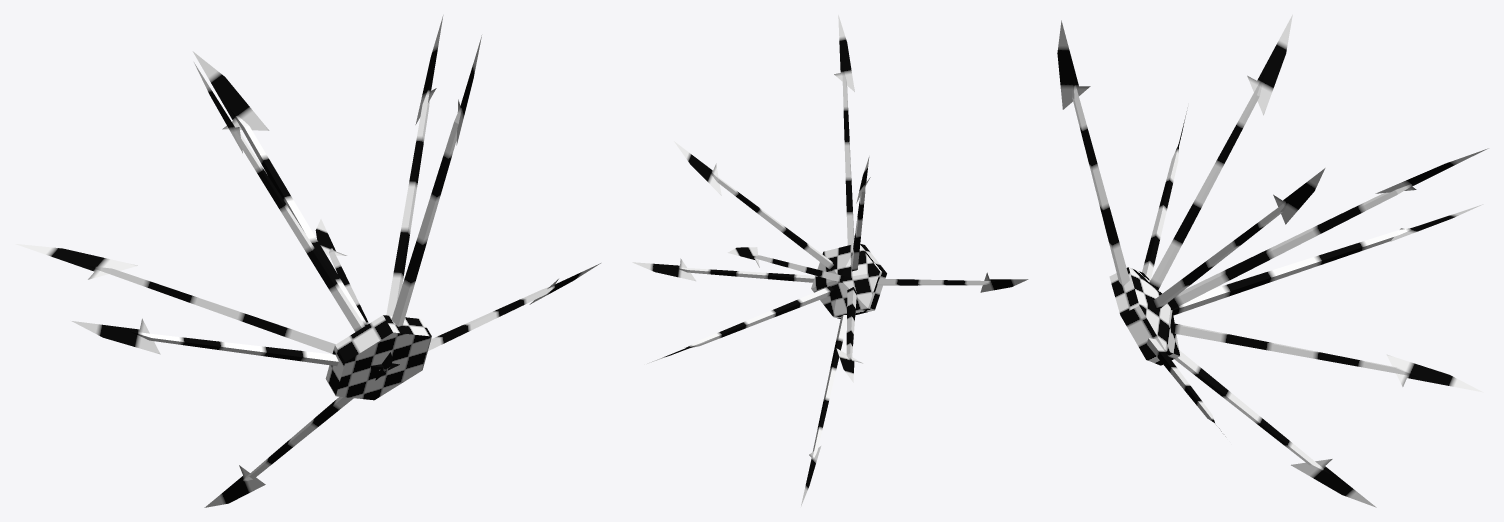
The model's file is initqi25.dae.
3 renders of one model, left to right at view 1: azimuth 30°, elevation 25°; view 2: azimuth 150°, elevation 25°; view 3: azimuth 270°, elevation 25°, orthographic. The views are drawn at different scales.
Parts seen in each view (by area): view 1: item; view 2: item; view 3: item.
Boxes of the visible parts, x1,y1,x2,y2 form: item: (15,15,600,507); item: (632,15,1028,506); item: (1057,14,1488,507).
Bounding box in the file's own units: 1.49 × 1.06 × 1.46.
Materials: 1 (1 with a texture image).
